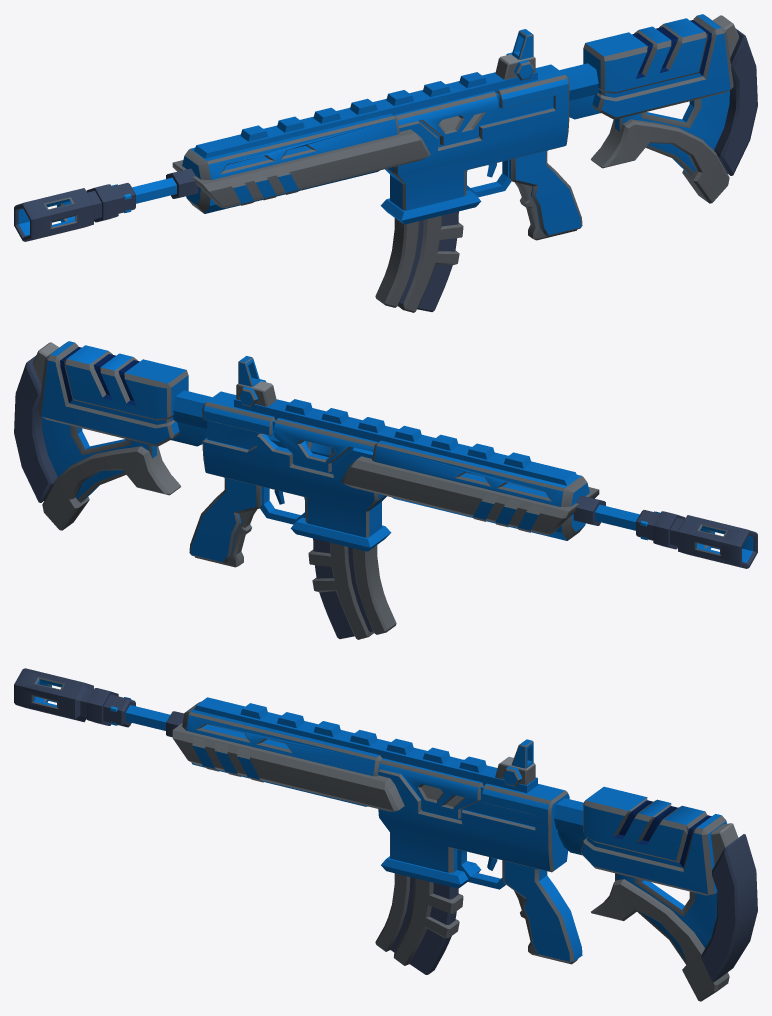
File: gun_7.fbx
The picture shows the model from 3 angles, top to bottom: view 1: azimuth 30°, elevation 25°; view 2: azimuth 150°, elevation 25°; view 3: azimuth 330°, elevation 25°; orthographic projection.
Visible parts, largest first — view 1: gun_7; view 2: gun_7; view 3: gun_7.
Boxes of the visible parts, <box> form: gun_7: <box>14,14,757,312</box>; gun_7: <box>14,341,757,639</box>; gun_7: <box>14,668,757,1001</box>.
Size of the model in its own units: 91.43 by 30.58 by 8.92.
